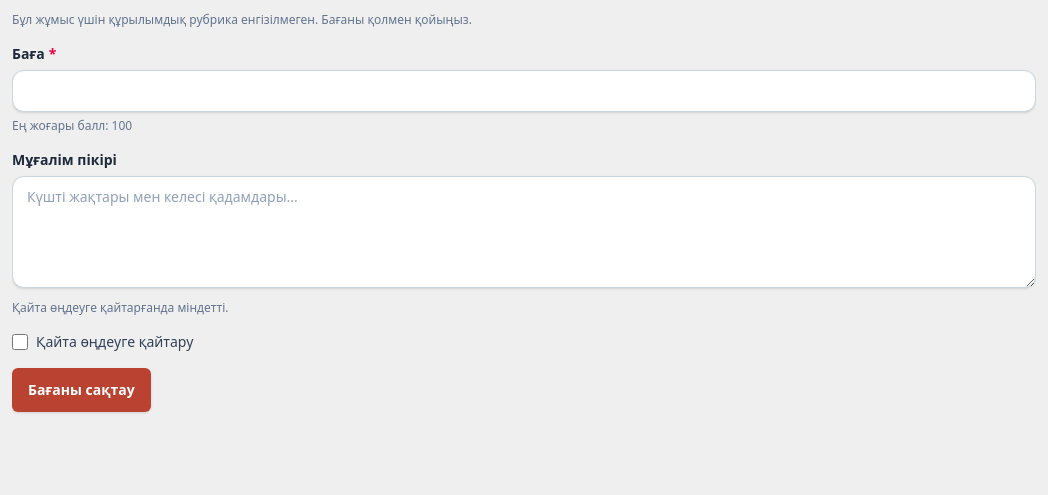
Test: GradeRubric › requires feedback when returning for revision
The width and height of the screenshot is (1048, 495).
In the number field labelled "Баға*": (524, 91) [12,70,1036,112], type "55"
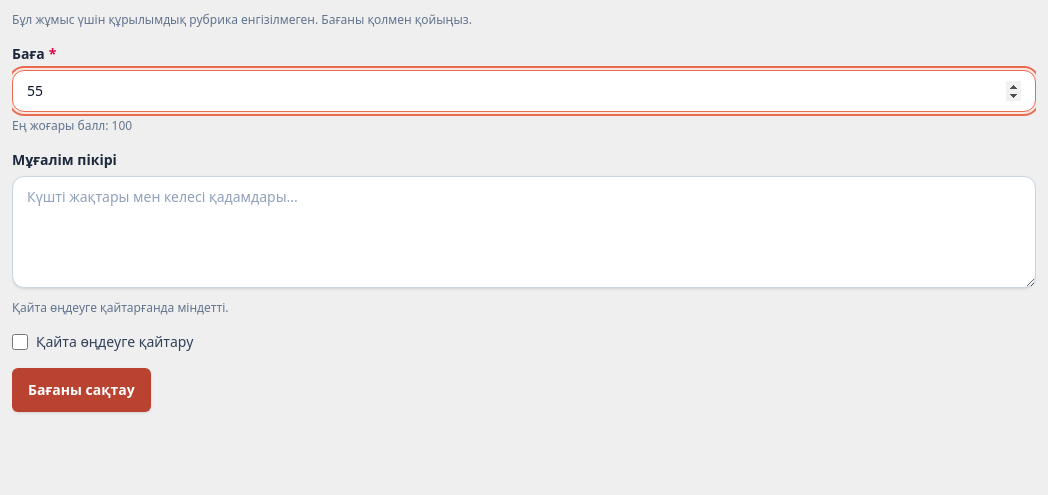
Click the checkbox labelled "Қайта өңдеуге қайтару": click(20, 342) [12,334,28,350]
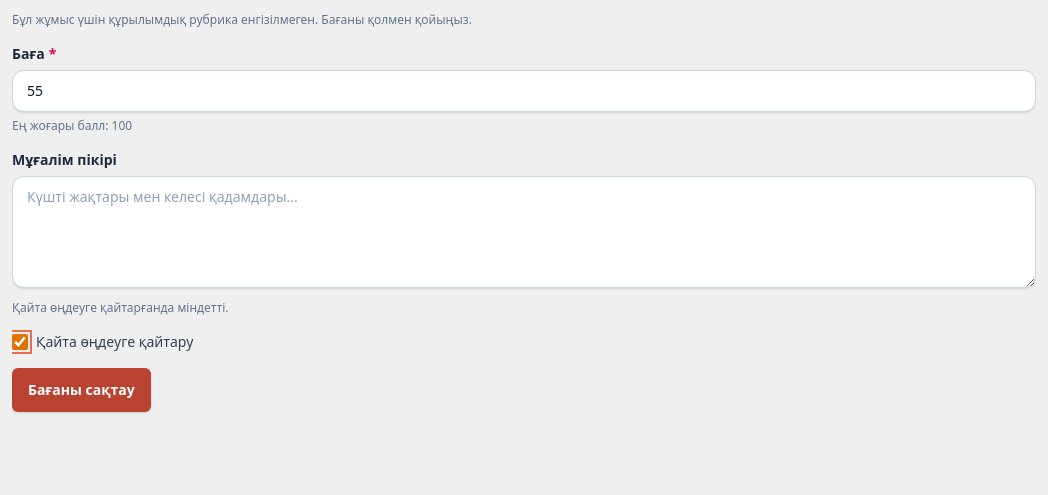
Click the button "Бағаны сақтау": click(81, 390) [12,368,151,412]
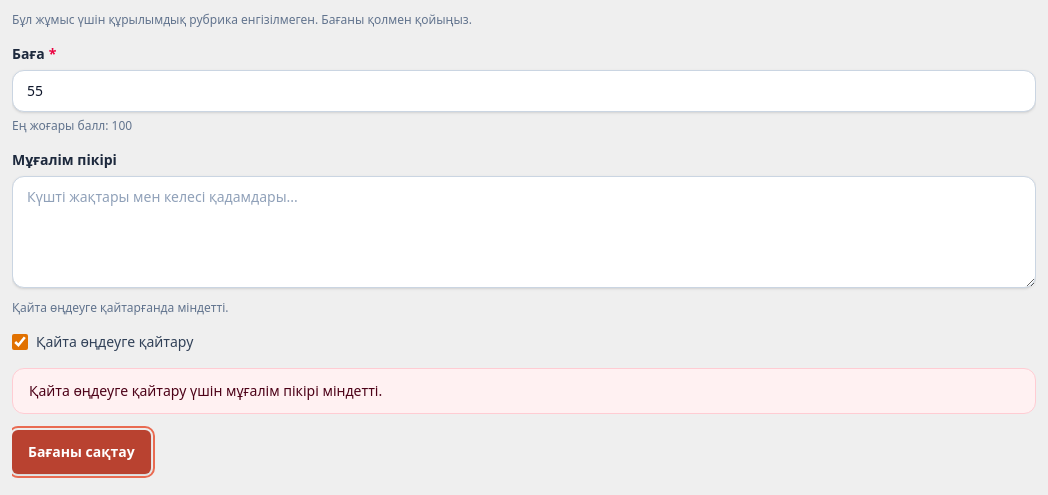
Result: the text "Қайта өңдеуге қайтару үшін мұғалім пікірі міндетті." is shown at [29,381,382,400]
